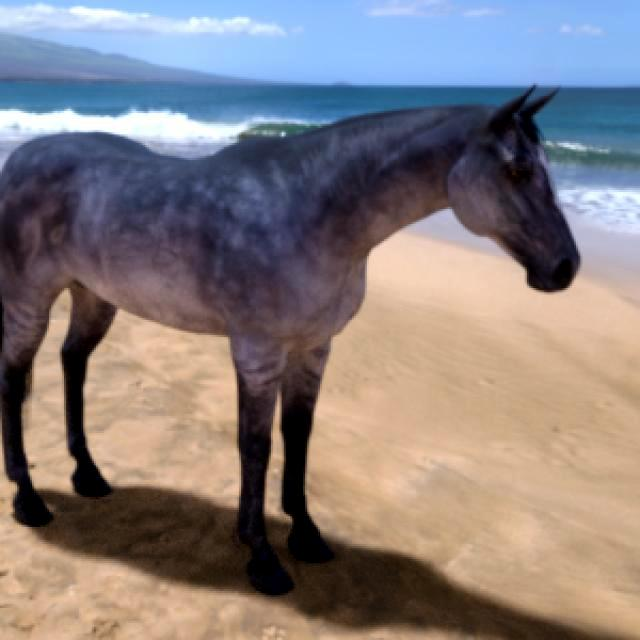horse: (0, 89, 580, 593)
